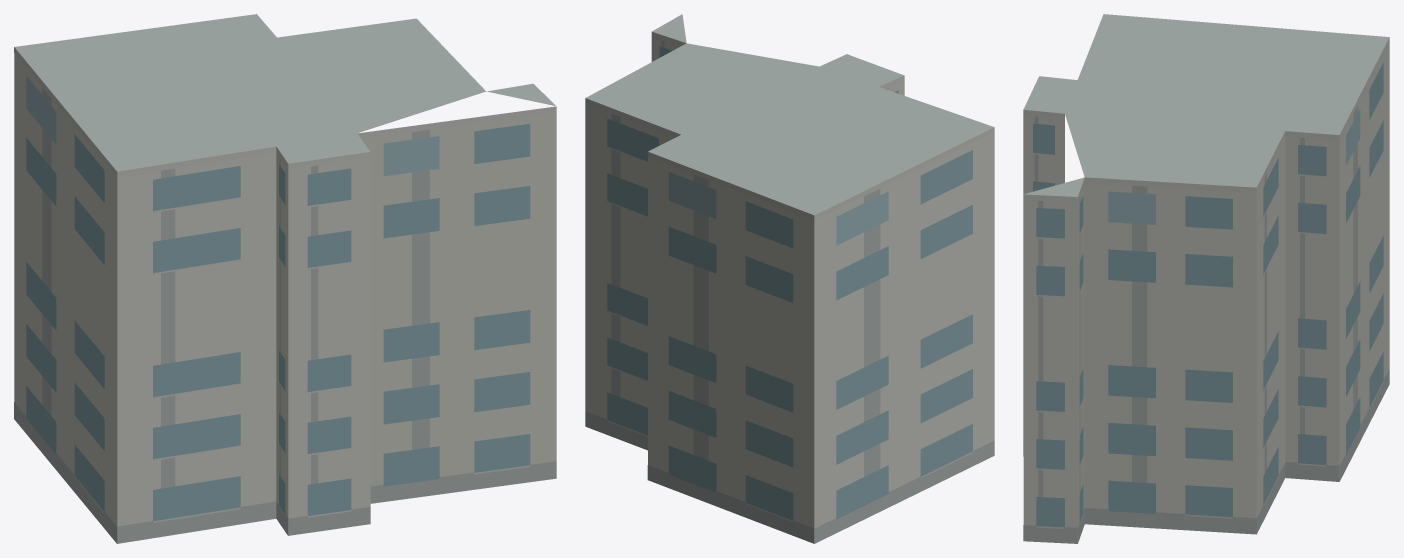
Rendered from survey-upis-32919472.glb.
3 views of the same model, side by side, from view 1: azimuth 30°, elevation 25°; view 2: azimuth 150°, elevation 25°; view 3: azimuth 270°, elevation 25° (orthographic). The views are drawn at different scales.
Visible parts, largest first — view 1: survey-upis-32919472.tmp; view 2: survey-upis-32919472.tmp; view 3: survey-upis-32919472.tmp.
Boxes of the visible parts, bbox=[...] form: survey-upis-32919472.tmp: bbox=[14, 14, 556, 543]; survey-upis-32919472.tmp: bbox=[585, 14, 994, 543]; survey-upis-32919472.tmp: bbox=[1023, 14, 1389, 543].
Size of the model in its own units: 16.76 by 14.8 by 14.18.
